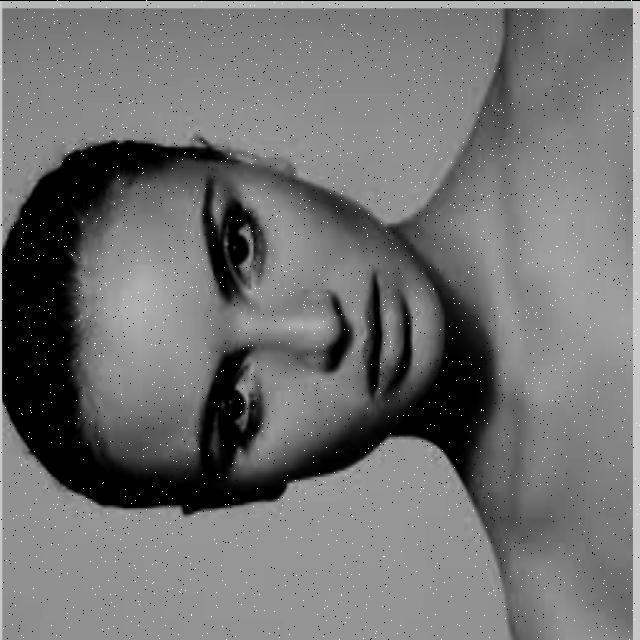face_no_mask: (72, 140, 451, 520)
